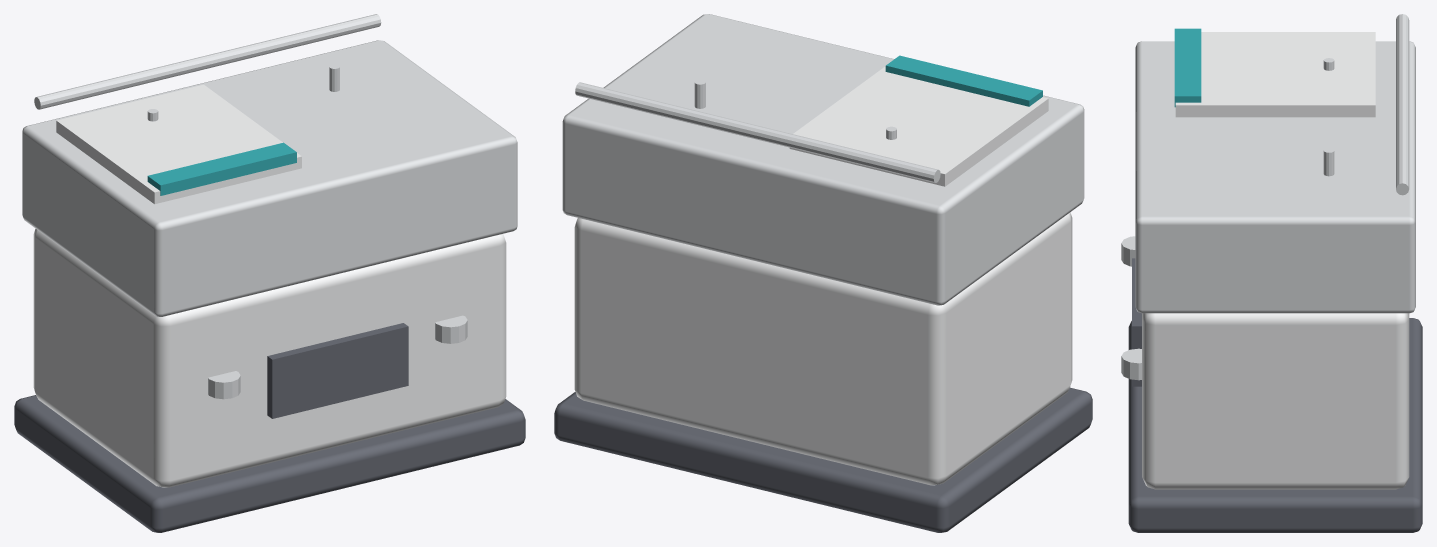
3 views of the same model, side by side, from view 1: azimuth 30°, elevation 25°; view 2: azimuth 150°, elevation 25°; view 3: azimuth 270°, elevation 25° (orthographic). The views are drawn at different scales.
Visible parts, largest first — view 1: tint-bath; view 2: tint-bath; view 3: tint-bath.
Boxes of the visible parts, x1,y1,x2,y2 form: tint-bath: (14,14,525,532); tint-bath: (554,14,1092,532); tint-bath: (1121,14,1422,532).
Bounding box in the file's own units: 0.66 × 0.57 × 0.451.
